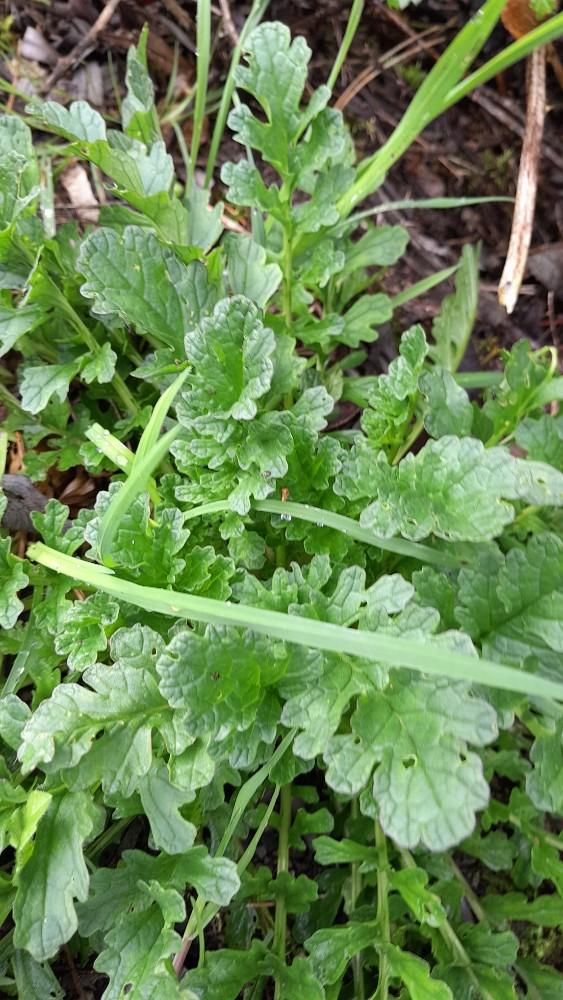Jacobaea vulgaris: (29, 13, 563, 857)
